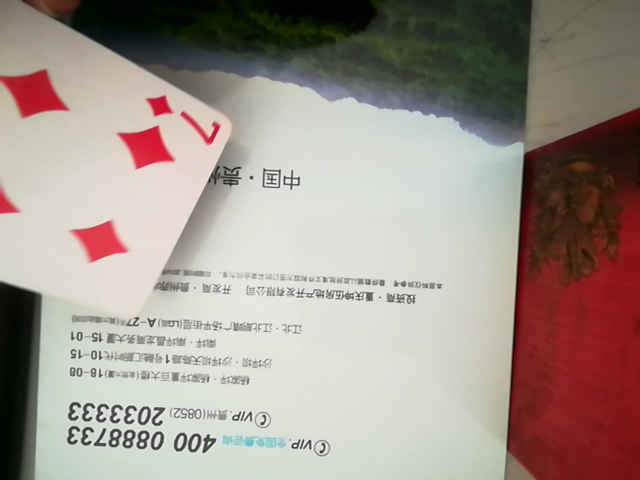fk 7: (0, 0, 241, 320)
